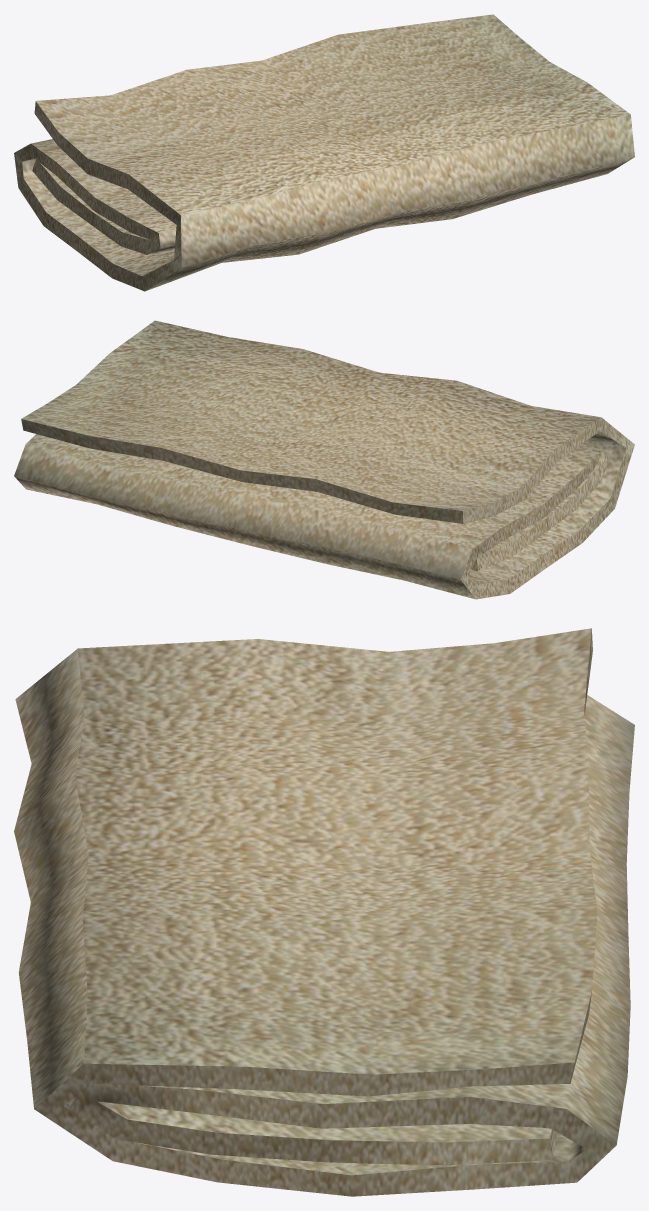
Rendered from Beige Towel.FBX.
The picture shows the model from 3 angles, top to bottom: view 1: azimuth 30°, elevation 25°; view 2: azimuth 150°, elevation 25°; view 3: azimuth 270°, elevation 25°; orthographic projection. The views are drawn at different scales.
Visible parts, largest first — view 1: Beige Towel; view 2: Beige Towel; view 3: Beige Towel.
Boxes of the visible parts, x1,y1,x2,y2 form: Beige Towel: (14, 14, 634, 291); Beige Towel: (14, 320, 634, 599); Beige Towel: (14, 628, 634, 1196).
Bounding box in the file's own units: 31.31 × 6.44 × 19.61.
1 material, 1 textured.
